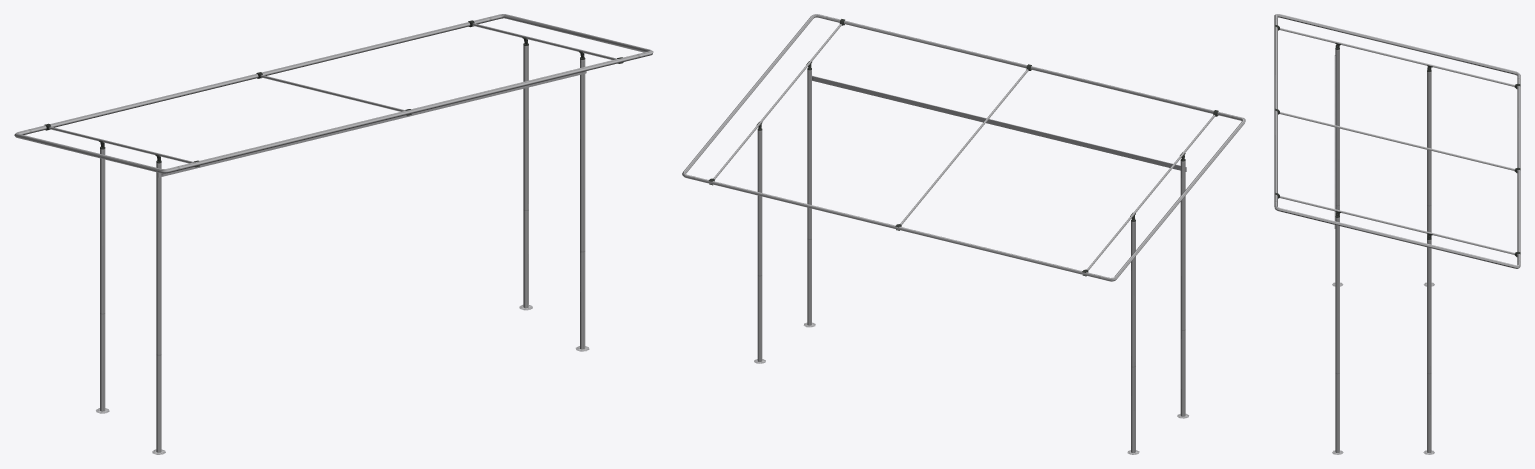
Rendered from jsf_4P_s04_Leg01.fbx.
3 views of the same model, side by side, from view 1: azimuth 30°, elevation 25°; view 2: azimuth 150°, elevation 25°; view 3: azimuth 270°, elevation 25° (orthographic). The views are drawn at different scales.
Visible parts, largest first — view 1: jsf_4P_s04_Leg01; view 2: jsf_4P_s04_Leg01; view 3: jsf_4P_s04_Leg01.
Boxes of the visible parts, x1,y1,x2,y2 form: jsf_4P_s04_Leg01: (14, 14, 653, 454); jsf_4P_s04_Leg01: (682, 14, 1245, 454); jsf_4P_s04_Leg01: (1274, 14, 1520, 454).
Size of the model in its own units: 394 by 243 by 210.
